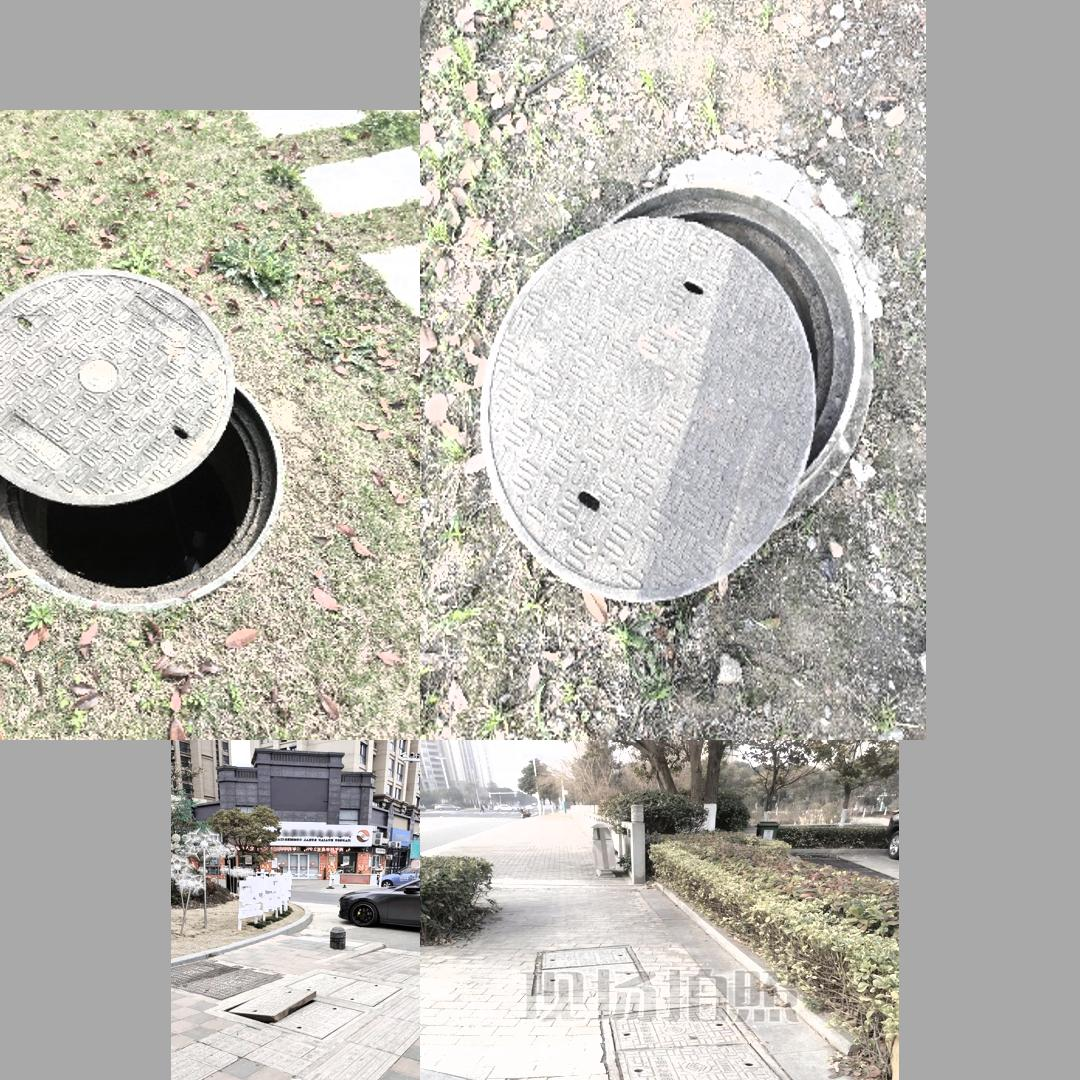good: (531, 945, 652, 997), (171, 958, 285, 1004), (285, 971, 404, 1010)
uncovered: (481, 182, 874, 605), (0, 269, 284, 609), (598, 1003, 807, 1080), (216, 986, 370, 1040)
